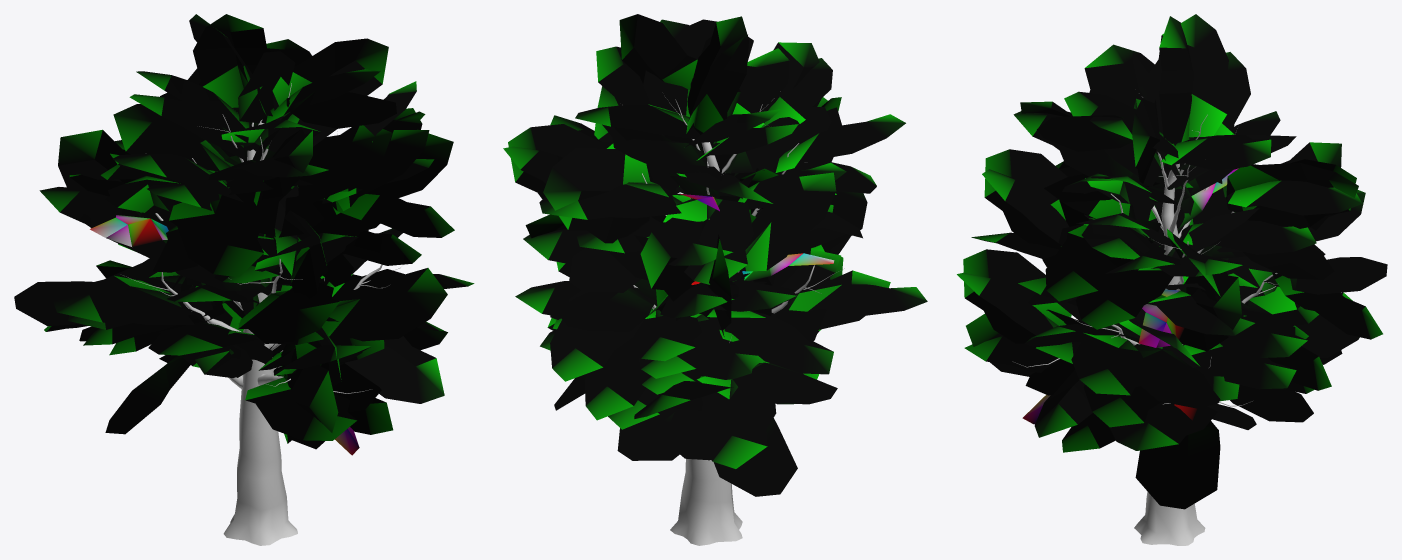
File: TreeA_01.FBX
3 renders of one model, left to right at view 1: azimuth 30°, elevation 25°; view 2: azimuth 150°, elevation 25°; view 3: azimuth 270°, elevation 25°, orthographic. The views are drawn at different scales.
Parts seen in each view (by area): view 1: TreeA_01Leaves_LOD0, TreeA_01Bark_LOD0; view 2: TreeA_01Leaves_LOD0, TreeA_01Bark_LOD0; view 3: TreeA_01Leaves_LOD0, TreeA_01Bark_LOD0.
Boxes of the visible parts, x1,y1,x2,y2 form: TreeA_01Leaves_LOD0: [14, 14, 474, 455]; TreeA_01Bark_LOD0: [123, 83, 402, 545]; TreeA_01Leaves_LOD0: [503, 14, 927, 496]; TreeA_01Bark_LOD0: [633, 91, 844, 545]; TreeA_01Leaves_LOD0: [957, 14, 1387, 509]; TreeA_01Bark_LOD0: [1012, 89, 1277, 545].
Size of what is drawn, in the model's own units: 646 by 818 by 639.
